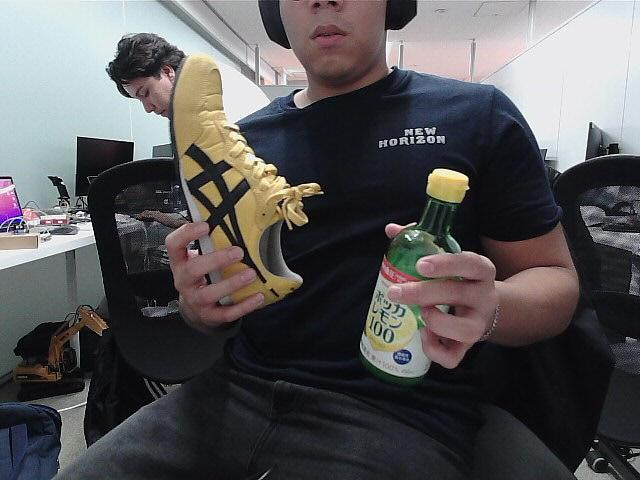Lemon_sapporo: (359, 160, 465, 395)
Shoes: (169, 48, 304, 315)
